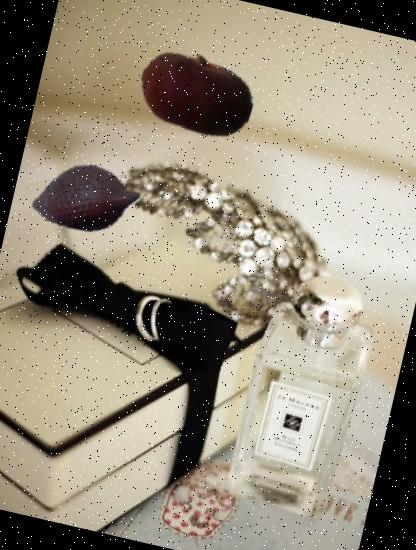Nectarine: (127, 24, 265, 162)
Salak: (22, 132, 152, 262)
